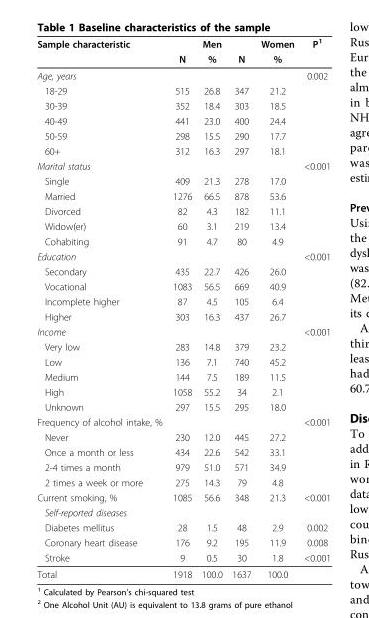table: (36, 36, 330, 579)
table column: (36, 36, 166, 579), (255, 36, 298, 579), (298, 36, 330, 579), (166, 36, 196, 579), (196, 36, 226, 579), (226, 36, 255, 579)
table column header: (36, 36, 330, 67)
table projected row header: (36, 504, 330, 519)
table row: (36, 51, 330, 67), (36, 97, 330, 113), (36, 338, 330, 354), (36, 549, 330, 565), (36, 36, 330, 51), (36, 67, 330, 82), (36, 82, 330, 97), (36, 113, 330, 128), (36, 128, 330, 143), (36, 143, 330, 158), (36, 158, 330, 173), (36, 173, 330, 188), (36, 188, 330, 203), (36, 203, 330, 218), (36, 218, 330, 233), (36, 233, 330, 248), (36, 248, 330, 263), (36, 263, 330, 278), (36, 278, 330, 293), (36, 293, 330, 308), (36, 308, 330, 323), (36, 323, 330, 338), (36, 354, 330, 369), (36, 369, 330, 384), (36, 384, 330, 399), (36, 399, 330, 414), (36, 414, 330, 429), (36, 429, 330, 444), (36, 444, 330, 459), (36, 459, 330, 474), (36, 474, 330, 489), (36, 489, 330, 504), (36, 504, 330, 519), (36, 519, 330, 534), (36, 534, 330, 549), (36, 565, 330, 579)
table spanning cell: (36, 36, 166, 67), (255, 36, 298, 67), (298, 36, 330, 67), (166, 36, 196, 67), (196, 36, 226, 67), (226, 36, 255, 67)
